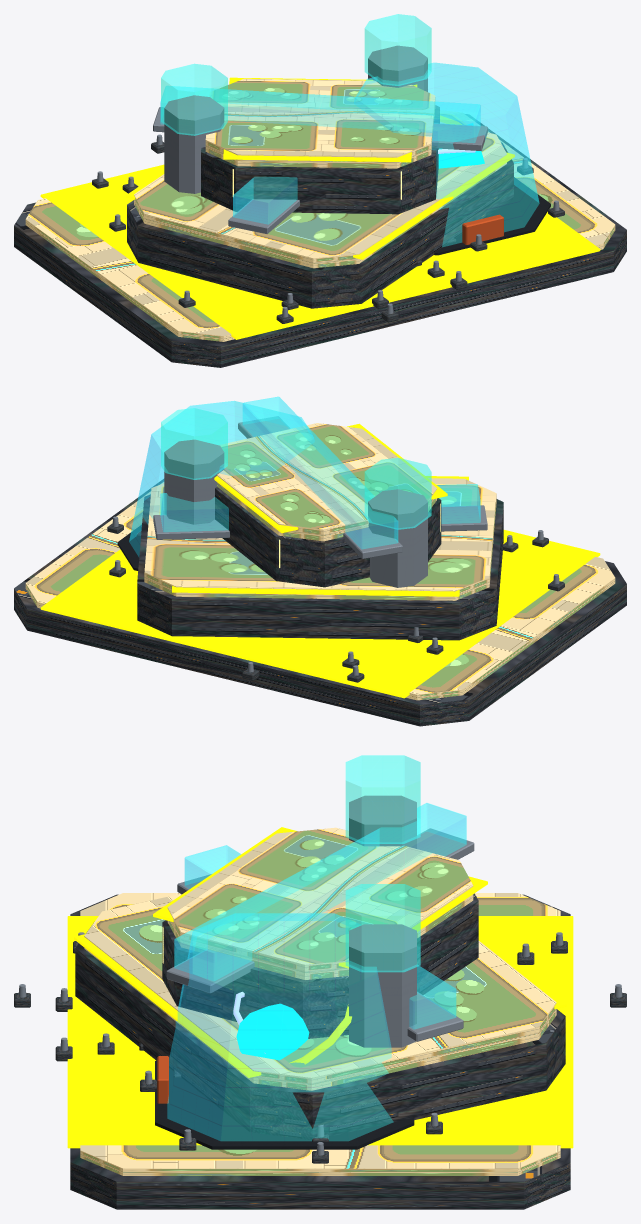
The model's file is interior_setpiece_05_r1_03.glb.
3 views of the same model, one above another, from view 1: azimuth 30°, elevation 25°; view 2: azimuth 150°, elevation 25°; view 3: azimuth 270°, elevation 25° (orthographic). The views are drawn at different scales.
Parts seen in each view (by area): view 1: Setpiece05_C03_cliff_basalt, Setpiece05_C03_promenade_paving, Setpiece05_C03_glass_cyan, Setpiece05_C03_led_amber, Setpiece05_C03_steel_machined, Setpiece05_C03_glass_emerald, Setpiece05_C03_gunmetal, Setpiece05_C03_accent_orange, Setpiece05_C03_led_cyan; view 2: Setpiece05_C03_cliff_basalt, Setpiece05_C03_promenade_paving, Setpiece05_C03_led_amber, Setpiece05_C03_glass_cyan, Setpiece05_C03_steel_machined, Setpiece05_C03_glass_emerald, Setpiece05_C03_gunmetal; view 3: Setpiece05_C03_promenade_paving, Setpiece05_C03_glass_cyan, Setpiece05_C03_cliff_basalt, Setpiece05_C03_led_amber, Setpiece05_C03_steel_machined, Setpiece05_C03_glass_emerald, Setpiece05_C03_gunmetal, Setpiece05_C03_led_cyan.
Part boxes in pixels (bbox=[...]): Setpiece05_C03_cliff_basalt: bbox=[14, 105, 626, 367]; Setpiece05_C03_promenade_paving: bbox=[25, 78, 615, 341]; Setpiece05_C03_glass_cyan: bbox=[160, 62, 539, 246]; Setpiece05_C03_led_amber: bbox=[40, 77, 600, 339]; Setpiece05_C03_steel_machined: bbox=[97, 45, 559, 317]; Setpiece05_C03_glass_emerald: bbox=[161, 14, 431, 135]; Setpiece05_C03_gunmetal: bbox=[434, 177, 550, 255]; Setpiece05_C03_accent_orange: bbox=[462, 214, 503, 244]; Setpiece05_C03_led_cyan: bbox=[438, 123, 484, 168]; Setpiece05_C03_cliff_basalt: bbox=[14, 479, 626, 726]; Setpiece05_C03_promenade_paving: bbox=[25, 423, 615, 700]; Setpiece05_C03_led_amber: bbox=[40, 423, 600, 698]; Setpiece05_C03_glass_cyan: bbox=[129, 396, 480, 556]; Setpiece05_C03_steel_machined: bbox=[112, 416, 559, 675]; Setpiece05_C03_glass_emerald: bbox=[161, 408, 431, 529]; Setpiece05_C03_gunmetal: bbox=[117, 525, 141, 570]; Setpiece05_C03_promenade_paving: bbox=[80, 827, 560, 1175]; Setpiece05_C03_glass_cyan: bbox=[167, 803, 466, 1140]; Setpiece05_C03_cliff_basalt: bbox=[14, 893, 626, 1209]; Setpiece05_C03_led_amber: bbox=[67, 827, 573, 1148]; Setpiece05_C03_steel_machined: bbox=[18, 795, 622, 1155]; Setpiece05_C03_glass_emerald: bbox=[345, 755, 420, 972]; Setpiece05_C03_gunmetal: bbox=[155, 1060, 414, 1149]; Setpiece05_C03_led_cyan: bbox=[236, 1003, 309, 1060].
Bounding box in the file's own units: 38 × 14.25 × 34.29.
Materials: 11 (11 with a texture image).
